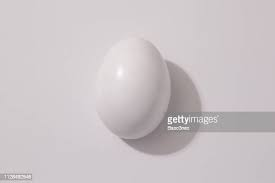eggs: (92, 26, 177, 150)
